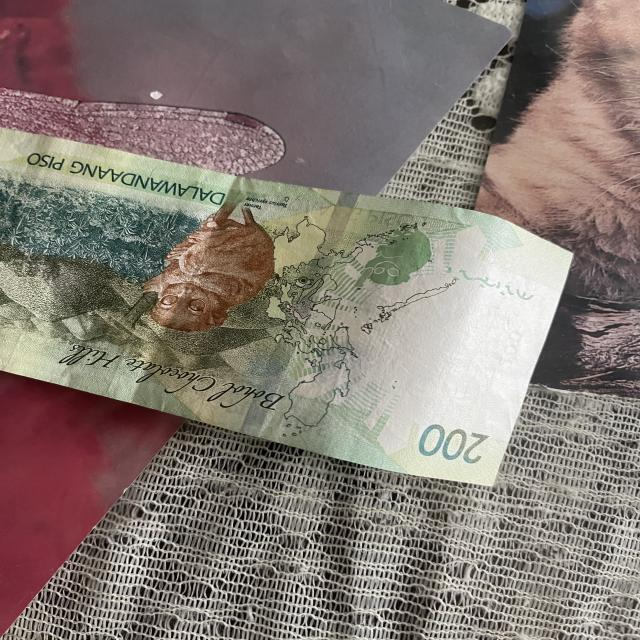200_tarsier: (122, 182, 285, 356)
200_tarsier_watermark: (344, 216, 437, 295)
